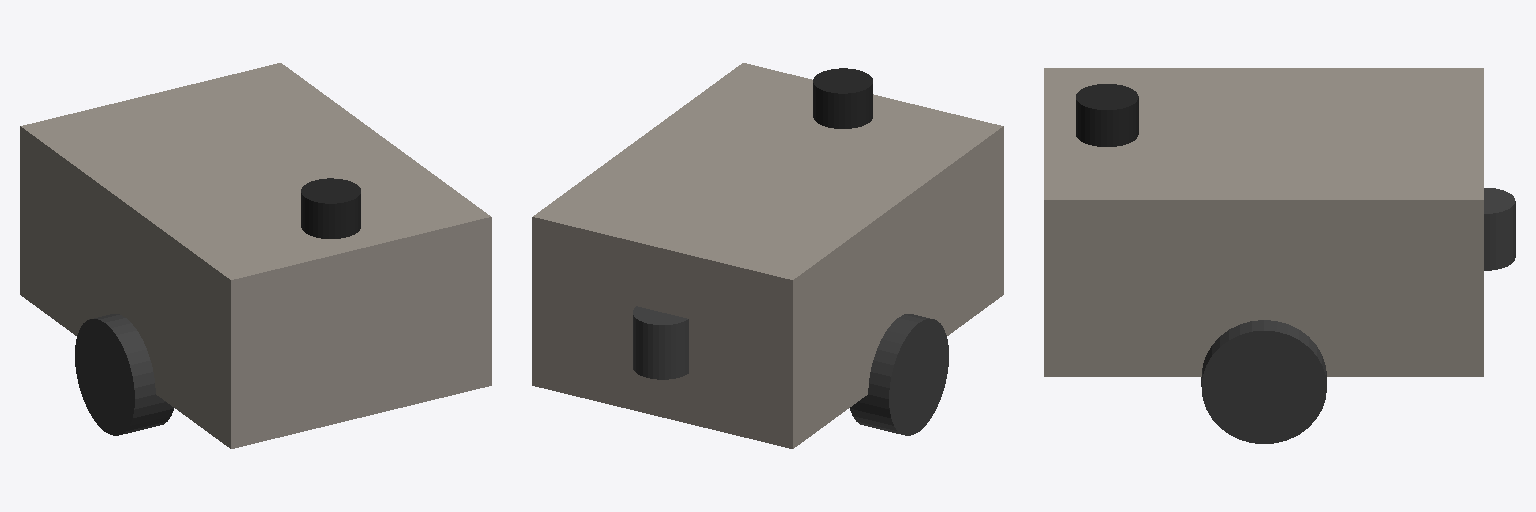
The robot description file, URDF, robot "glr_tugger":
<?xml version="1.0" encoding="utf-8"?>
<robot name="glr_tugger">

  <link name="base_link"/>

  <link name="base_footprint"/>

  <joint name="base_joint" type="fixed">
    <parent link="base_link"/>
    <child link="base_footprint"/>
    <origin xyz="0 0 0" rpy="0 0 0"/>
  </joint>

  <link name="chassibigga">
    <inertial>
      <origin xyz="0 0 0.155" rpy="0 0 0" />
      <mass value="555.02" />
      <inertia ixx="27.09" ixy="0.0" ixz="0.0" iyy="15.99" iyz="0.0" izz="34.20"/>
    </inertial>
    <visual>
      <origin xyz="0 0 0.155" rpy="0 0 0" />
      <geometry>
          <box size="0.50 0.70 0.31"/>
      </geometry>
      <material name="chassis_mat">
        <color rgba="0.64706 0.61961 0.58824 1" />
      </material>
    </visual>
    <collision>
      <origin xyz="0 0 0.155" rpy="0 0 0" />
      <geometry>
          <box size="0.50 0.70 0.31"/>
      </geometry>
    </collision>
  </link>

  <joint name="base_chassi_joint" type="fixed">
    <parent link="base_link"/>
    <child link="chassibigga"/>
    <origin xyz="0 0 0.1" rpy="0 0 0"/>
  </joint>
  
  <link name="left_wheel">
    <inertial>
      <origin xyz="0 0 0" rpy="0 0 0"/>
      <mass value="12"/>
      <inertia ixx="0.048" ixy="0.0" ixz="0.0" iyy="0.048" iyz="0.0" izz="0.048"/>
    </inertial>
    <visual>
      <origin xyz="0 0 0" rpy="0 1.5708 0"/>
      <geometry>
        <cylinder radius="0.1" length="0.08"/>
      </geometry>
      <material name="wheel_material">
        <color rgba="0.29804 0.29804 0.29804 1"/>
      </material>
    </visual>
    <collision>
      <origin xyz="0 0 0" rpy="0 1.5708 0"/>
      <geometry>
        <cylinder radius="0.1" length="0.08"/>
      </geometry>
    </collision>
  </link>

  <joint name="left_wheel_joint" type="continuous">
    <origin xyz="0.25 0 0" rpy="0 0 0"/>
    <parent link="chassibigga"/>
    <child link="left_wheel"/>
    <axis xyz="1 0 0"/>
    <dynamics damping="0.1" friction="0.1"/>
  </joint>

  <link name="right_wheel">
    <inertial>
      <origin xyz="0 0 0" rpy="0 0 0"/>
      <mass value="12"/>
      <inertia ixx="0.048" ixy="0.0" ixz="0.0" iyy="0.048" iyz="0.0" izz="0.048"/>
    </inertial>
    <visual>
      <origin xyz="0 0 0" rpy="0 1.5708 0"/>
      <geometry>
        <cylinder radius="0.1" length="0.08"/>
      </geometry>
      <material name="wheel_material"/>
    </visual>
    <collision>
      <origin xyz="0 0 0" rpy="0 1.5708 0"/>
      <geometry>
        <cylinder radius="0.1" length="0.08"/>
      </geometry>
    </collision>
  </link>

  <joint name="right_wheel_joint" type="continuous">
    <origin xyz="-0.25 0 0" rpy="0 0 0"/>
    <parent link="chassibigga"/>
    <child link="right_wheel"/>
    <axis xyz="1 0 0"/>
    <dynamics damping="0.1" friction="0.1"/>
  </joint>
  
  <link name="hitch_link">
    <inertial>
      <origin xyz="0 0 0" rpy="0 0 0"/>
      <mass value="1.0"/>
      <inertia ixx="0.01" ixy="0" ixz="0" iyy="0.01" iyz="0" izz="0.01"/>
    </inertial>
    <visual>
      <origin xyz="0 0 0" rpy="0 0 0"/>
      <geometry>
        <cylinder radius="0.05" length="0.1"/>
      </geometry>
      <material name="hitch_material">
        <color rgba="0.3 0.3 0.3 1"/>
      </material>
    </visual>
    <collision>
      <origin xyz="0 0 0" rpy="0 0 0"/>
      <geometry>
        <cylinder radius="0.05" length="0.1"/>
      </geometry>
    </collision>
  </link>

  <joint name="hitch_joint" type="fixed">
    <origin xyz="0 0.35 0.14260" rpy="0 0 0"/>
    <parent link="chassibigga"/>
    <child link="hitch_link"/>
  </joint>

  <link name="lidar_link">
    <inertial>
      <origin xyz="0 0 0" rpy="0 0 0"/>
      <mass value="0.5"/>
      <inertia ixx="0.001" ixy="0" ixz="0" iyy="0.001" iyz="0" izz="0.001"/>
    </inertial>
    <visual>
      <origin xyz="0 0 0" rpy="0 0 0"/>
      <geometry>
        <cylinder radius="0.05" length="0.07"/>
      </geometry>
      <material name="lidar_material">
        <color rgba="0.2 0.2 0.2 1"/>
      </material>
    </visual>
    <collision>
      <origin xyz="0 0 0" rpy="0 0 0"/>
      <geometry>
        <cylinder radius="0.05" length="0.07"/>
      </geometry>
    </collision>
  </link>

  <joint name="lidar_joint" type="fixed">
    <parent link="chassibigga"/>
    <child link="lidar_link"/>
    <origin xyz="0 -0.25 0.34" rpy="0 0 0"/>
  </joint>

</robot>

--- What the picture shows (computed from the rendered views, not written in the file) ---
Views: 3 orthographic renders of the robot side by side, from view 1: azimuth 30°, elevation 25°; view 2: azimuth 150°, elevation 25°; view 3: azimuth 270°, elevation 25°.
Model glr_tugger with 7 links and 6 joints (2 continuous, 4 fixed), rooted at base_link, posed all joints at 0.
Visible links, largest first — view 1: chassibigga, right_wheel, lidar_link; view 2: chassibigga, right_wheel, hitch_link, lidar_link; view 3: chassibigga, left_wheel, lidar_link, hitch_link.
Link boxes in pixels (x1,y1,x2,y2): chassibigga: (20, 63, 491, 448); right_wheel: (75, 314, 173, 435); lidar_link: (301, 178, 360, 238); chassibigga: (532, 63, 1003, 448); right_wheel: (850, 314, 948, 435); hitch_link: (633, 306, 688, 379); lidar_link: (813, 68, 872, 128); chassibigga: (1044, 68, 1483, 376); left_wheel: (1201, 320, 1326, 443); lidar_link: (1076, 84, 1138, 146); hitch_link: (1484, 188, 1515, 270).
Bounding box of the posed robot: 0.58 × 0.75 × 0.475 m (x, y, z).
Geometry: primitives only (box / cylinder / sphere), no mesh files.
